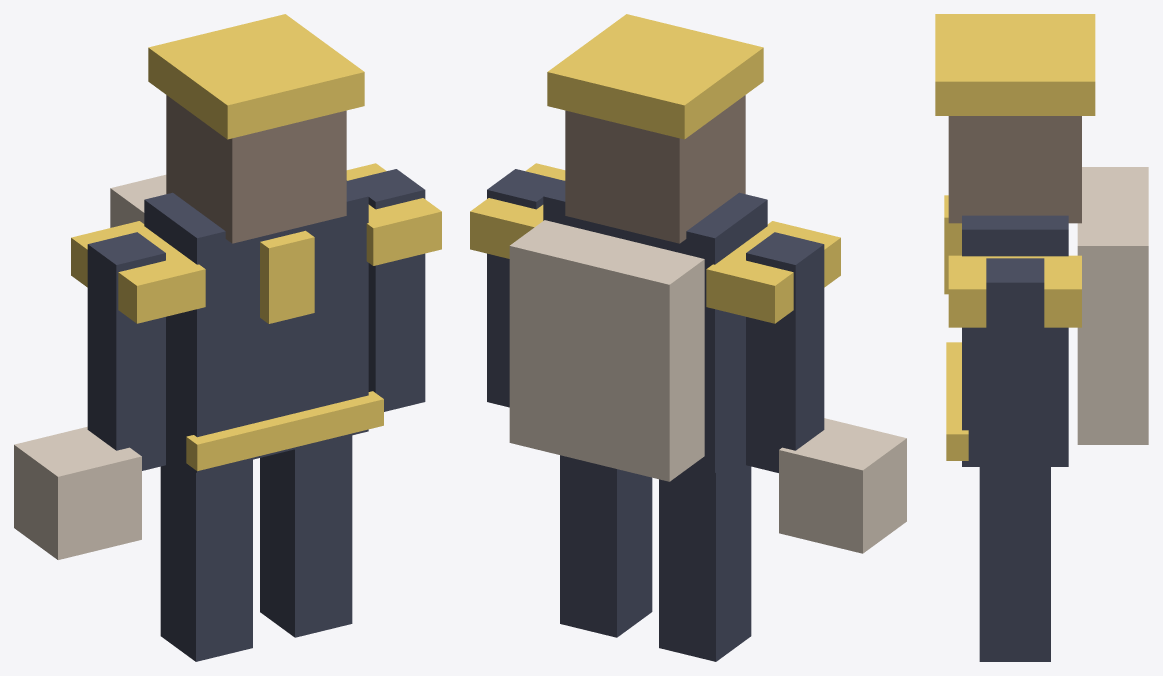
Rendered from 20_draven_tideforged_ranger_from_observation.glb.
The picture shows the model from 3 angles, left to right: view 1: azimuth 30°, elevation 25°; view 2: azimuth 150°, elevation 25°; view 3: azimuth 270°, elevation 25°; orthographic projection.
Visible parts, largest first — view 1: Draven Tideforged, Ranger from Observation; view 2: Draven Tideforged, Ranger from Observation; view 3: Draven Tideforged, Ranger from Observation.
Part boxes in pixels (x1,y1,x2,y2): Draven Tideforged, Ranger from Observation: (14,14,441,661); Draven Tideforged, Ranger from Observation: (470,14,906,661); Draven Tideforged, Ranger from Observation: (935,14,1148,661).
Size of the model in its own units: 0.9906 by 1.42 by 0.4779.
